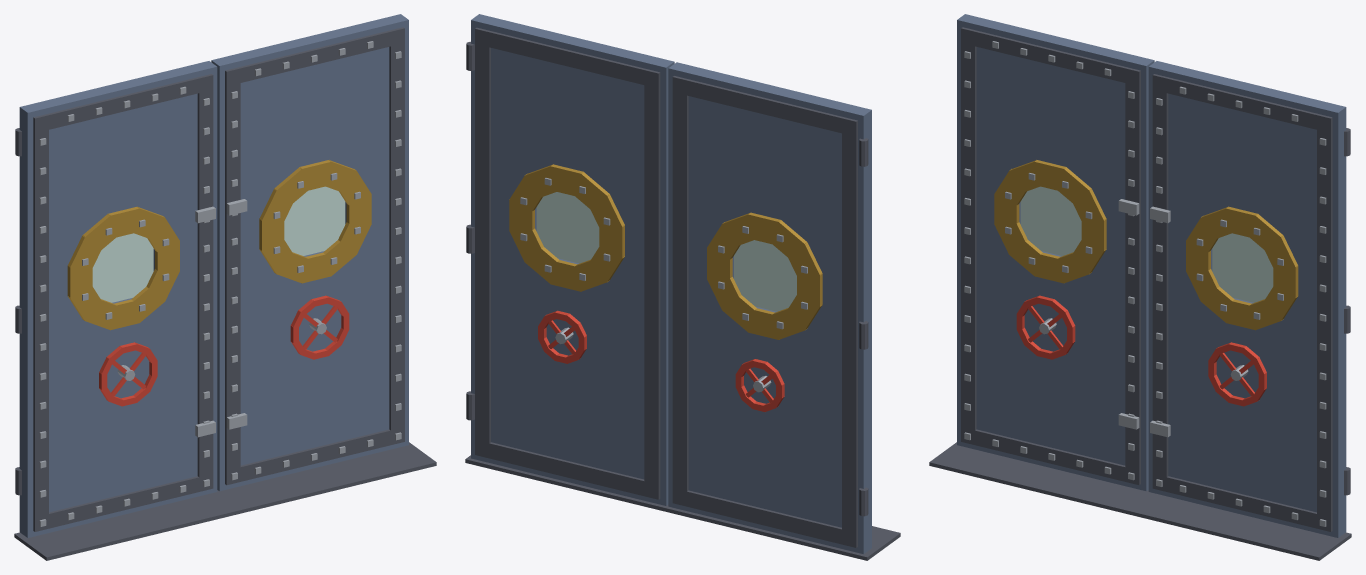
The model's file is CatCafe_Door_PortholeHatch_Front.glb.
3 views of the same model, side by side, from view 1: azimuth 30°, elevation 25°; view 2: azimuth 150°, elevation 25°; view 3: azimuth 330°, elevation 25° (orthographic). The views are drawn at different scales.
Parts seen in each view (by area): view 1: CatCafe_Door_PortholeHatch_Front_LeafR, CatCafe_Door_PortholeHatch_Front_LeafL, CatCafe_Door_PortholeHatch_Front, CatCafe_Door_PortholeHatch_Front_LeafL_Glass, CatCafe_Door_PortholeHatch_Front_LeafR_Glass; view 2: CatCafe_Door_PortholeHatch_Front_LeafR, CatCafe_Door_PortholeHatch_Front_LeafL, CatCafe_Door_PortholeHatch_Front_LeafL_Glass, CatCafe_Door_PortholeHatch_Front_LeafR_Glass, CatCafe_Door_PortholeHatch_Front; view 3: CatCafe_Door_PortholeHatch_Front_LeafL, CatCafe_Door_PortholeHatch_Front_LeafR, CatCafe_Door_PortholeHatch_Front, CatCafe_Door_PortholeHatch_Front_LeafR_Glass, CatCafe_Door_PortholeHatch_Front_LeafL_Glass.
Part boxes in pixels (left/top/right/bottom): CatCafe_Door_PortholeHatch_Front_LeafR: left=15, top=61, right=217, bottom=537; CatCafe_Door_PortholeHatch_Front_LeafL: left=211, top=14, right=408, bottom=491; CatCafe_Door_PortholeHatch_Front: left=14, top=442, right=436, bottom=560; CatCafe_Door_PortholeHatch_Front_LeafL_Glass: left=284, top=186, right=345, bottom=255; CatCafe_Door_PortholeHatch_Front_LeafR_Glass: left=92, top=233, right=153, bottom=302; CatCafe_Door_PortholeHatch_Front_LeafR: left=668, top=62, right=871, bottom=554; CatCafe_Door_PortholeHatch_Front_LeafL: left=466, top=14, right=674, bottom=505; CatCafe_Door_PortholeHatch_Front_LeafL_Glass: left=536, top=192, right=599, bottom=263; CatCafe_Door_PortholeHatch_Front_LeafR_Glass: left=734, top=240, right=796, bottom=311; CatCafe_Door_PortholeHatch_Front: left=465, top=455, right=900, bottom=560; CatCafe_Door_PortholeHatch_Front_LeafL: left=1148, top=61, right=1350, bottom=537; CatCafe_Door_PortholeHatch_Front_LeafR: left=957, top=14, right=1154, bottom=491; CatCafe_Door_PortholeHatch_Front: left=929, top=442, right=1351, bottom=560; CatCafe_Door_PortholeHatch_Front_LeafR_Glass: left=1020, top=186, right=1081, bottom=255; CatCafe_Door_PortholeHatch_Front_LeafL_Glass: left=1212, top=233, right=1273, bottom=302.
Size of the model in its own units: 6.96 by 7.33 by 1.21.
Materials: 1 (1 with a texture image).
